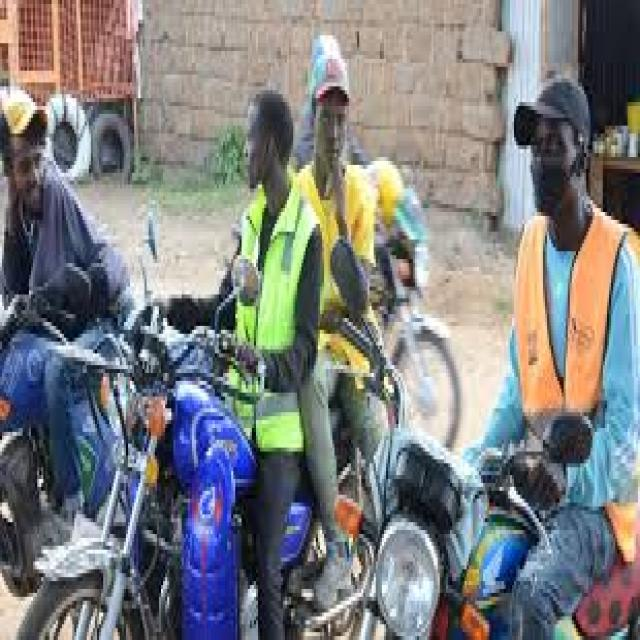bodaboda: (10, 208, 404, 640), (302, 203, 621, 640)
